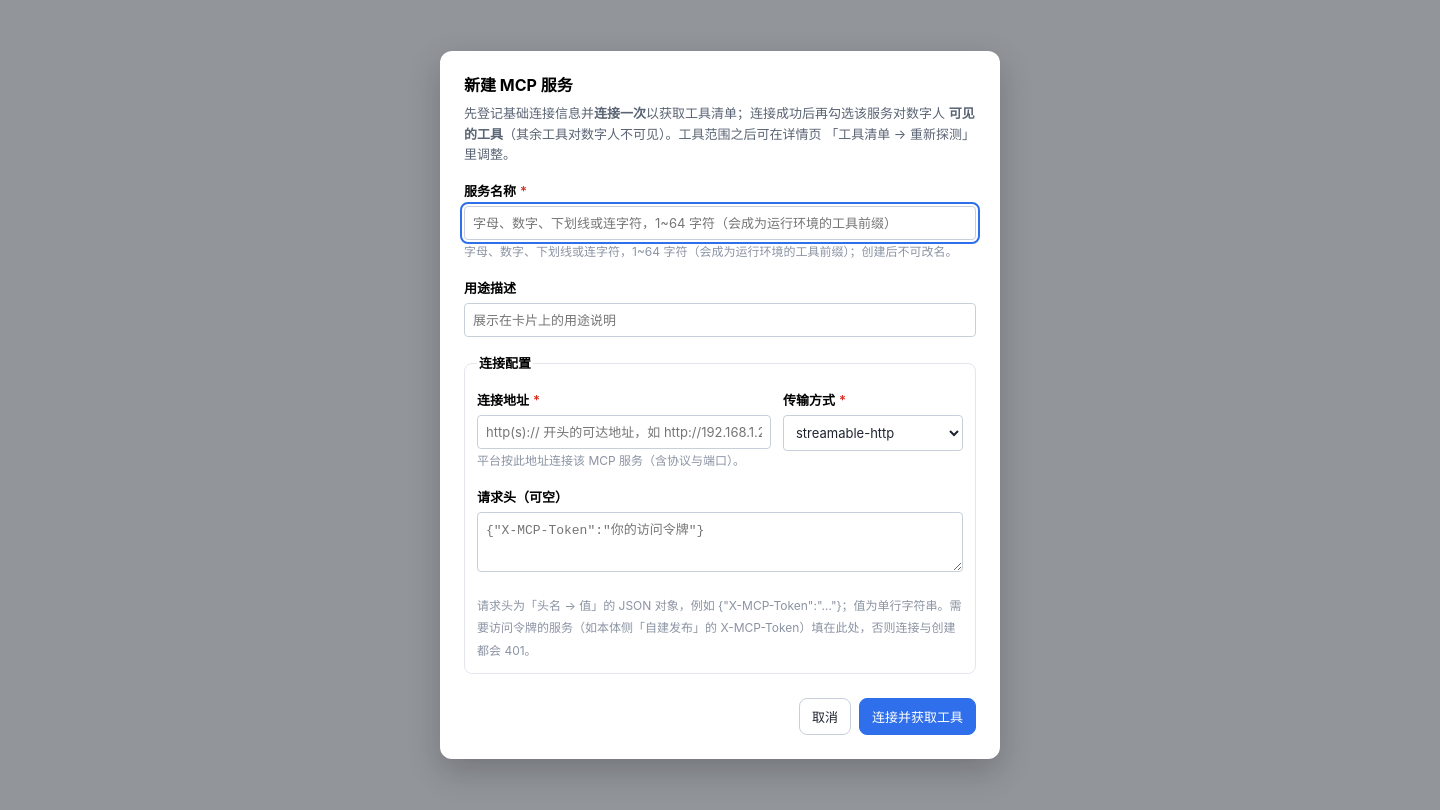
it: McpCreateDialog —— 第一步：校验（与详情页表单同一实现） › 服务名非法 → 报错且不探测、不创建
Type "bad name" into the field with id "mcp-create-name" at [720, 223], box [464,206,976,240]
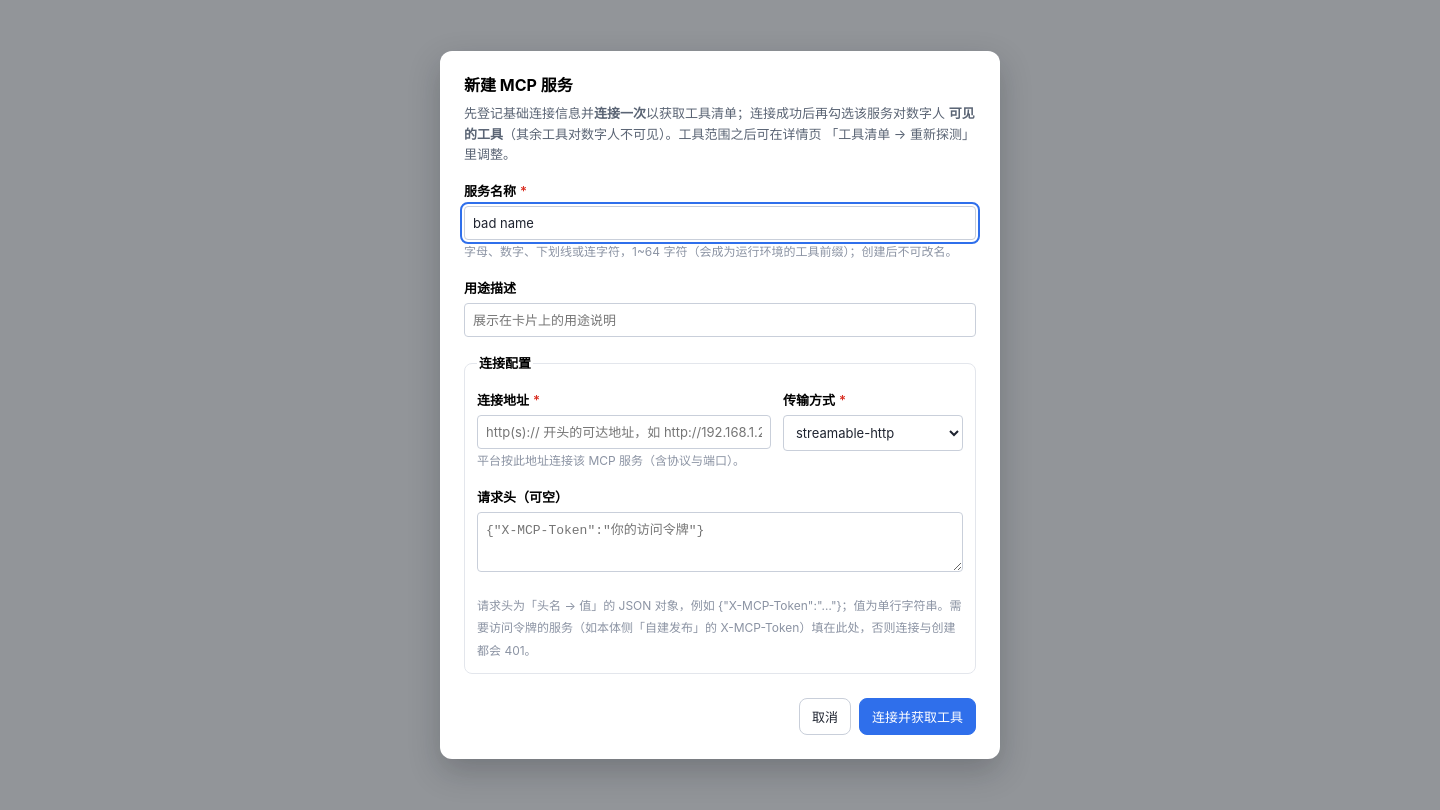
Type "http://h:8000/mcp" into the field with id "mcp-create-url" at [624, 432], box [477,415,771,449]
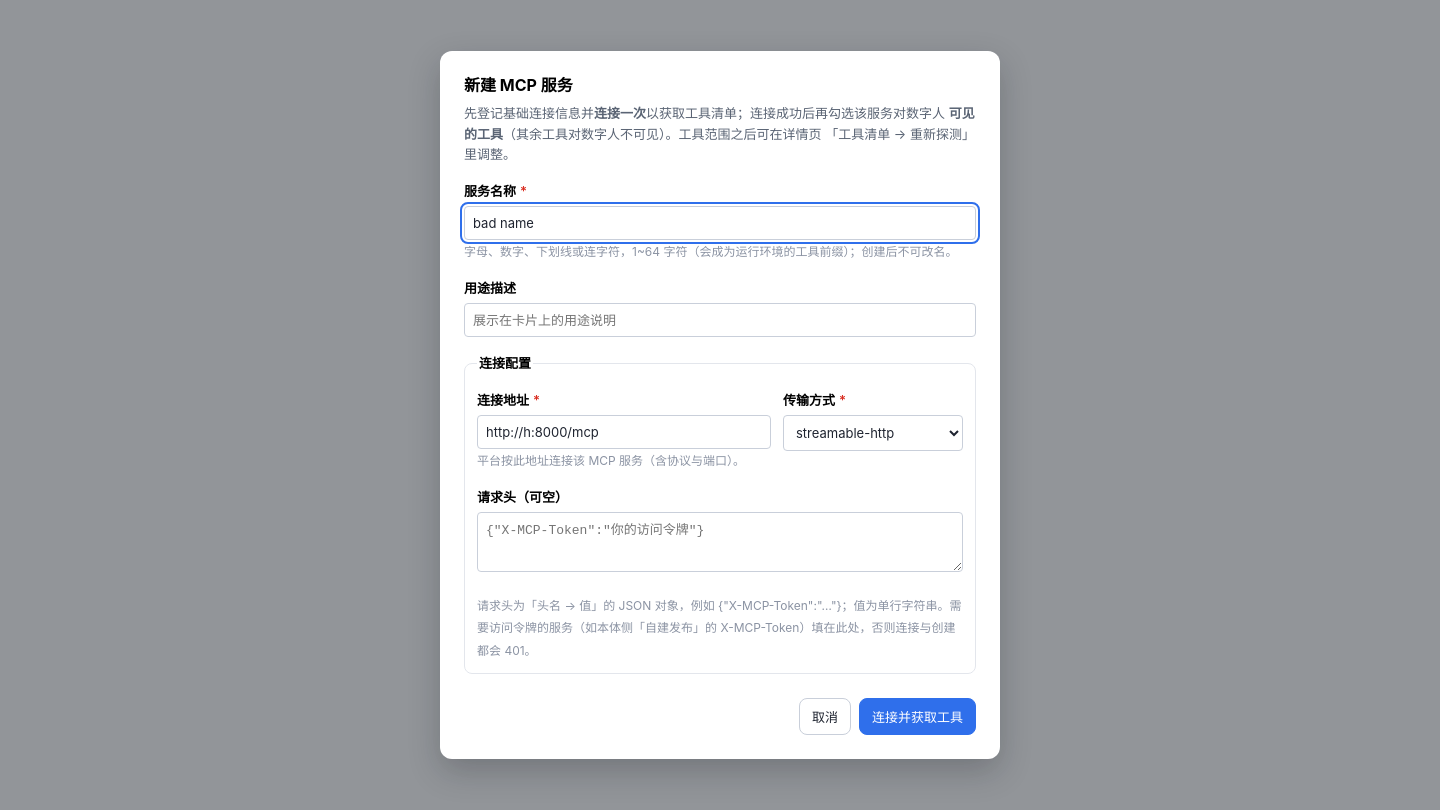
Click the button with test id "confirm" at [918, 717], box [859,698,976,735]
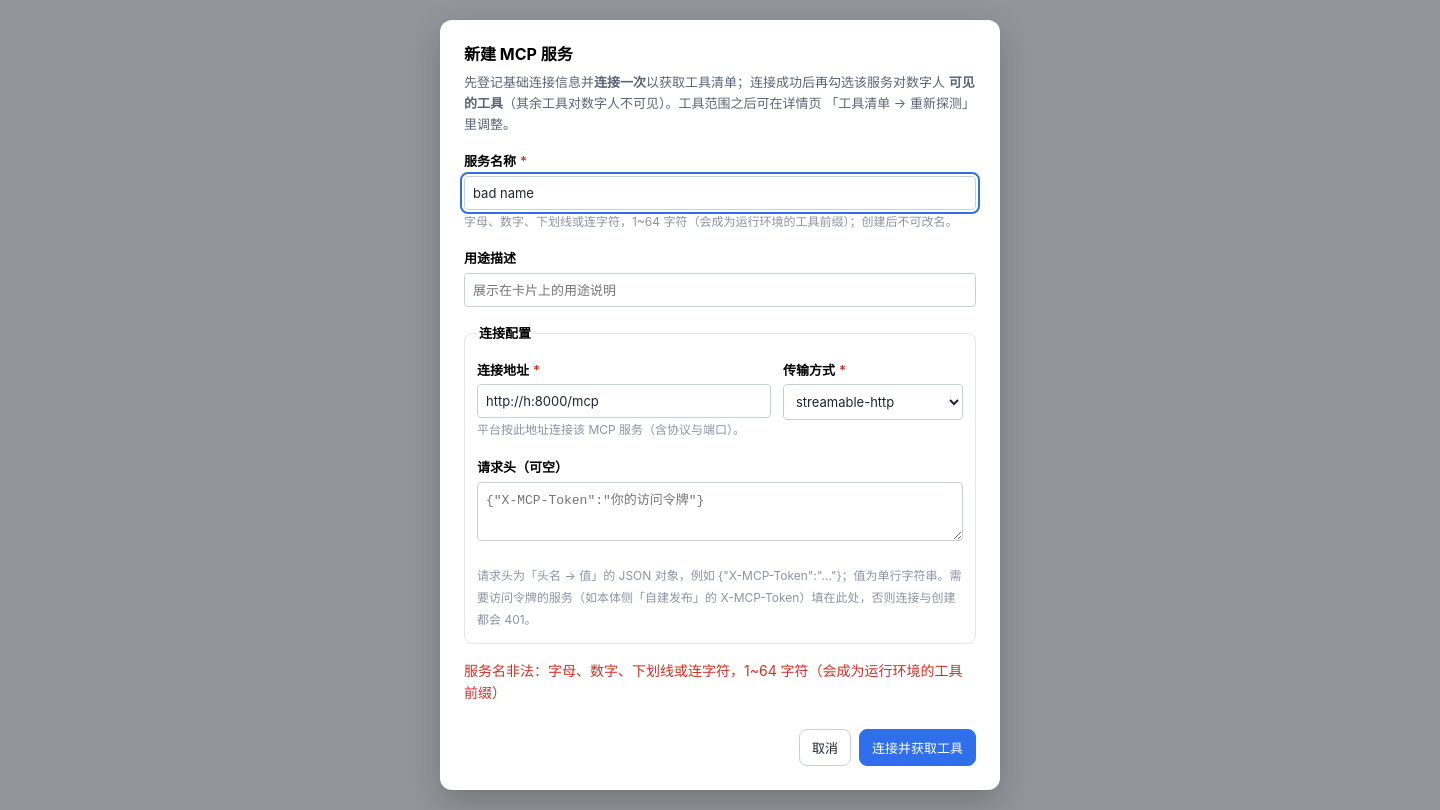
Check: the text "服务名非法" is shown, box [464,662,963,701]
